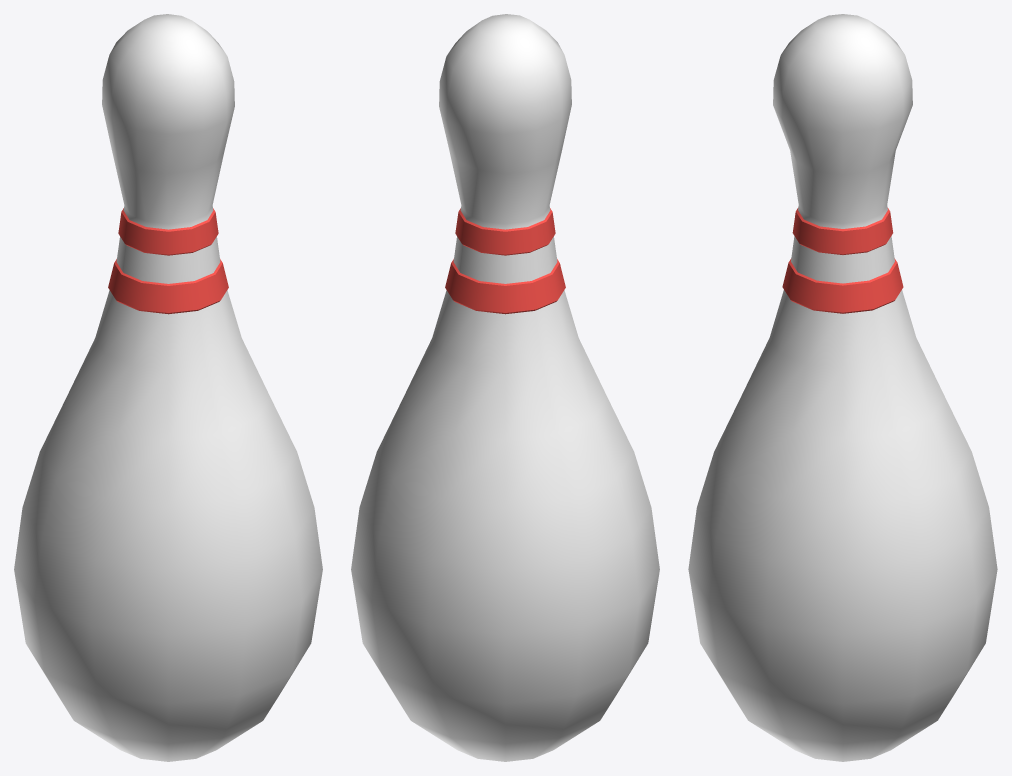
File: ping_01.FBX
3 views of the same model, side by side, from view 1: azimuth 30°, elevation 25°; view 2: azimuth 150°, elevation 25°; view 3: azimuth 270°, elevation 25° (orthographic).
Parts seen in each view (by area): view 1: ping_01; view 2: ping_01; view 3: ping_01.
Part boxes in pixels (<box>): ping_01: <box>14,14,322,761</box>; ping_01: <box>351,14,659,761</box>; ping_01: <box>688,14,997,761</box>.
Bounding box in the file's own units: 581 × 1488 × 581.
Materials: 1 (1 with a texture image).
